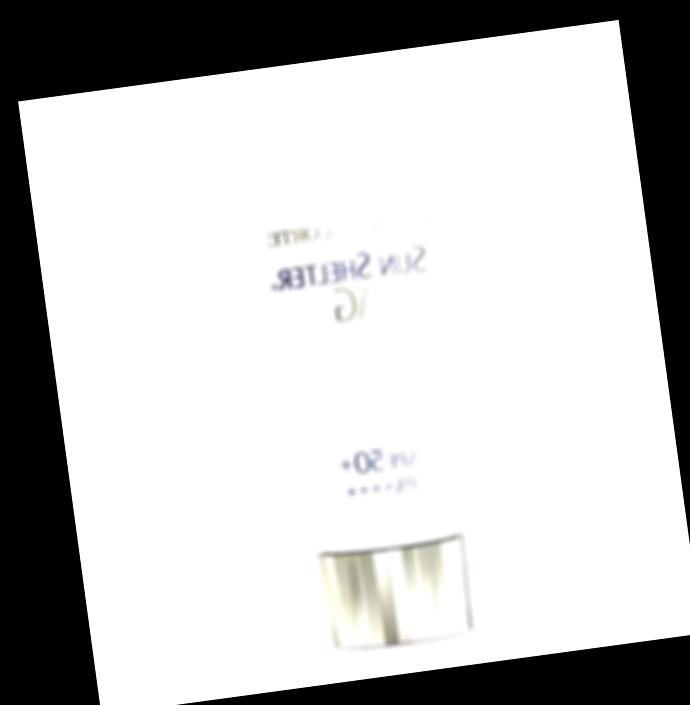cosmetic: (228, 92, 505, 659)
